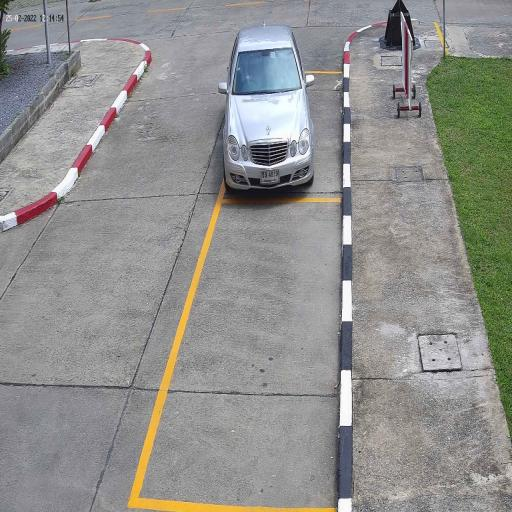car: (223, 25, 314, 197)
